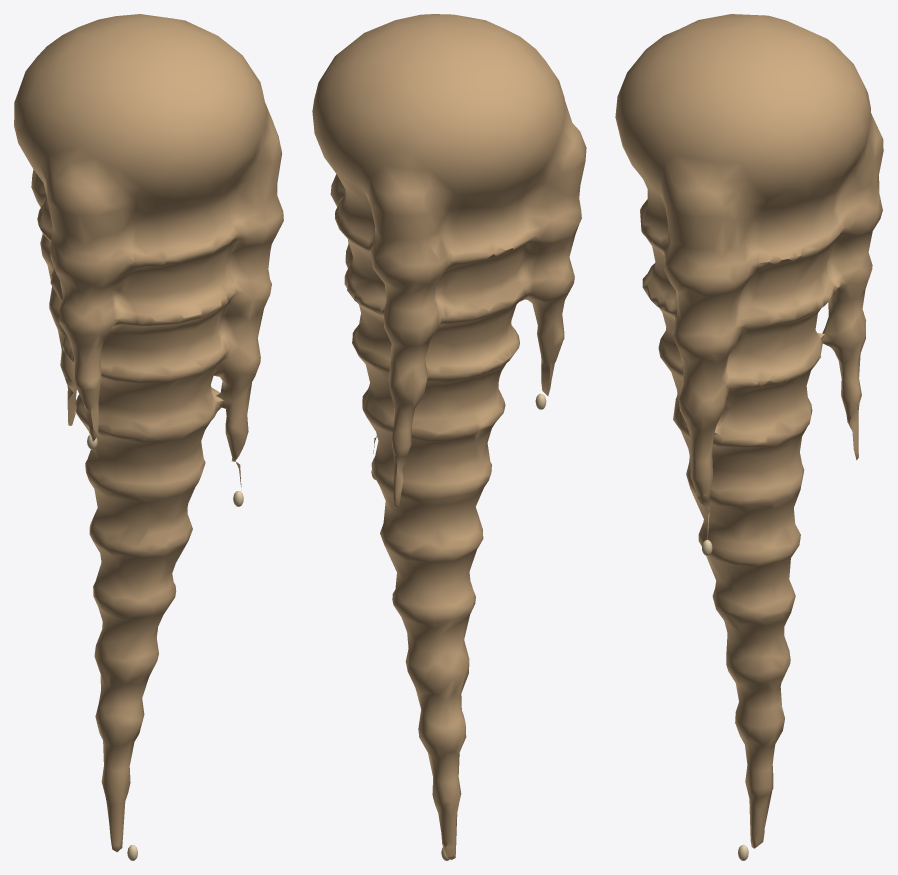
Rendered from stalactite-c.glb.
3 renders of one model, left to right at view 1: azimuth 30°, elevation 25°; view 2: azimuth 150°, elevation 25°; view 3: azimuth 270°, elevation 25°, orthographic.
Parts seen in each view (by area): view 1: calcite_0; view 2: calcite_0; view 3: calcite_0.
Part boxes in pixels (x1,y1,x2,y2): calcite_0: (14, 14, 283, 852); calcite_0: (312, 14, 586, 859); calcite_0: (615, 14, 883, 848).
Size of the model in its own units: 1.21 by 4.08 by 1.19.
